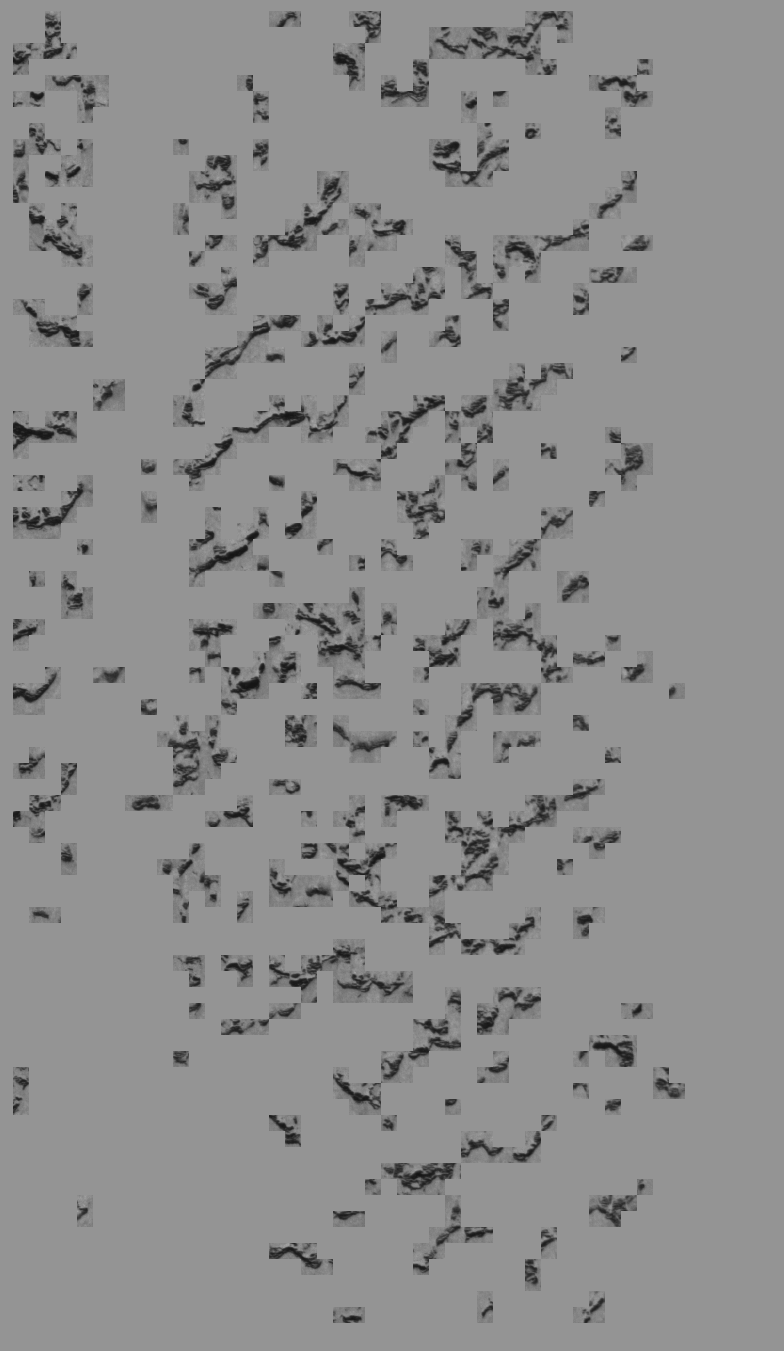oxl: (35, 10, 749, 1341)
